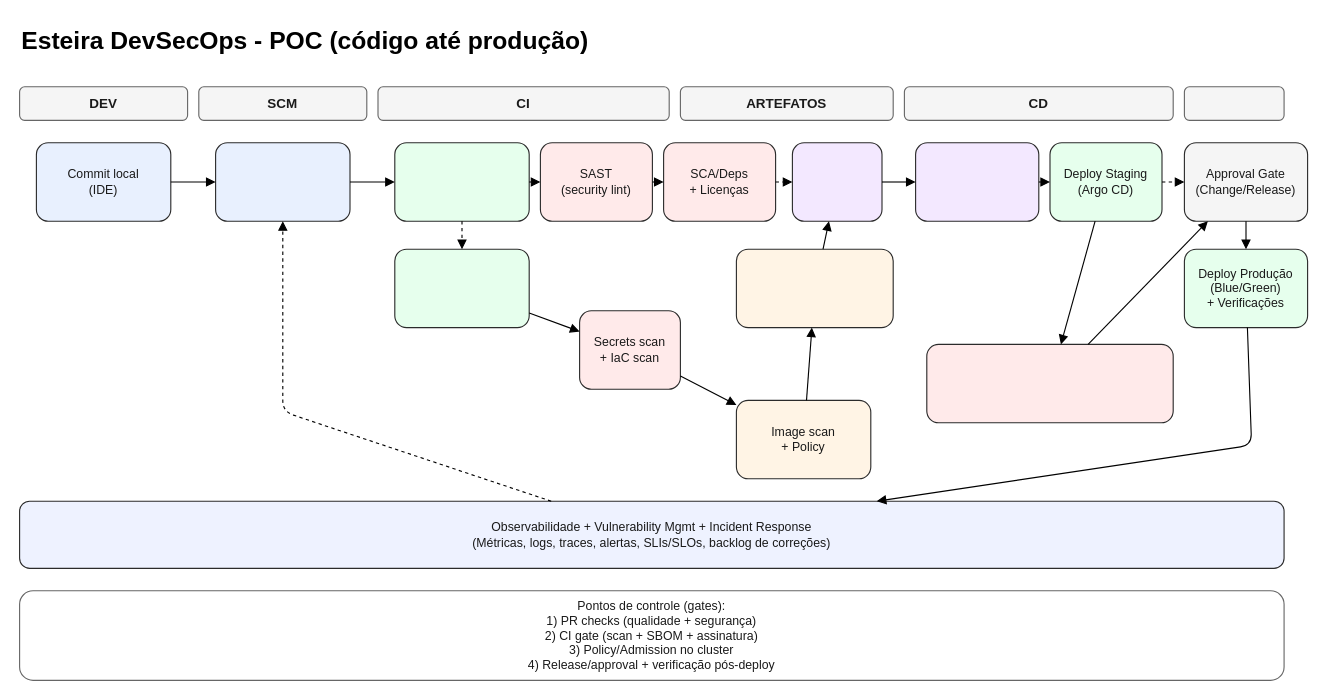
Some shapes in this 1327 by 700 pixel diagram are drawn without their labels. Here are the shapes that lost their labels. From the top down, the box of each, then its label:
(1183, 86, 1284, 120): PROD
(214, 142, 350, 221): PR / Code Review + Checks obrigatórios
(394, 142, 529, 221): Build + Unit tests + Coverage
(791, 142, 882, 221): Registry (ECR/Harbor) + Imutabilidade
(914, 142, 1039, 221): GitOps Repo (manifests/Helm)
(394, 248, 529, 328): Container Build + SBOM
(735, 248, 893, 328): Assinatura (Cosign) + Provenance
(926, 343, 1173, 423): Testes integ. + DAST + Smoke
